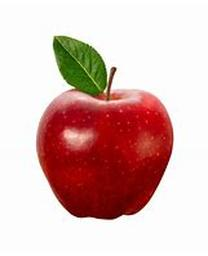apple: (33, 67, 172, 219)
